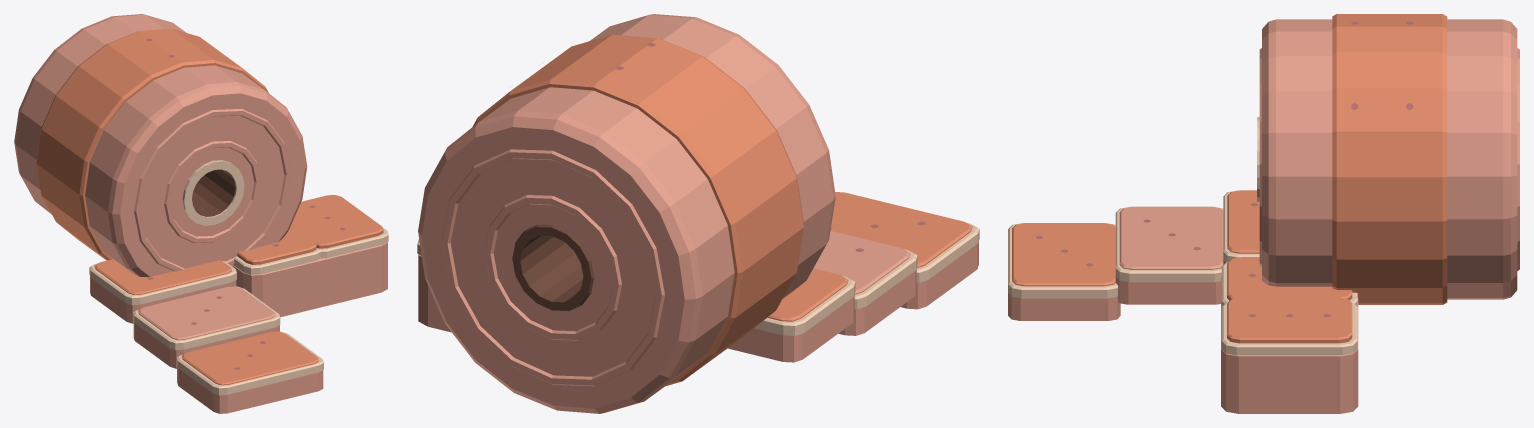
File: pick.bandages.glb
3 renders of one model, left to right at view 1: azimuth 30°, elevation 25°; view 2: azimuth 150°, elevation 25°; view 3: azimuth 270°, elevation 25°, orthographic. The views are drawn at different scales.
Size of the model in its own units: 0.7627 by 0.6389 by 1.02.
